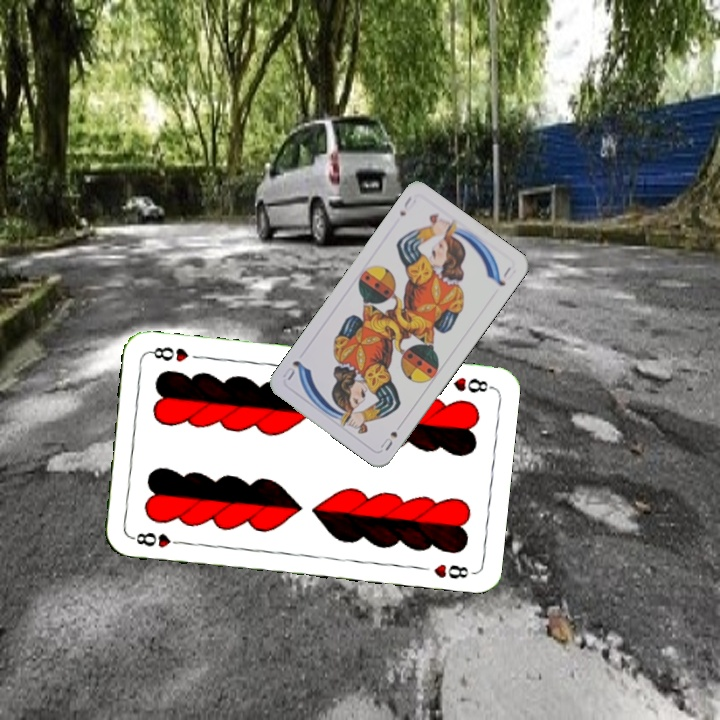H8: (128, 528, 187, 550), (449, 373, 494, 396)
SU: (376, 427, 400, 453), (395, 192, 414, 219)
